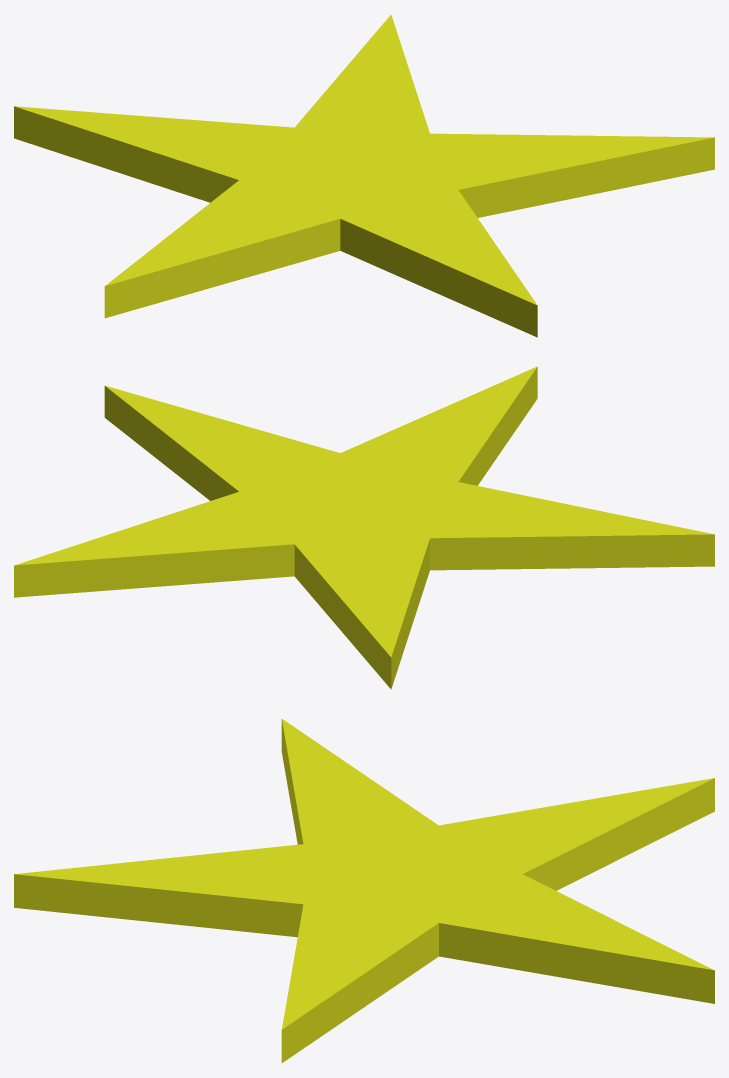
Rendered from star.glb.
3 views of the same model, one above another, from view 1: azimuth 30°, elevation 25°; view 2: azimuth 150°, elevation 25°; view 3: azimuth 270°, elevation 25° (orthographic). The views are drawn at different scales.
Visible parts, largest first — view 1: Circle; view 2: Circle; view 3: Circle.
Boxes of the visible parts, left/top/right/bottom form: Circle: left=14, top=14, right=714, bottom=337; Circle: left=14, top=366, right=714, bottom=689; Circle: left=14, top=719, right=714, bottom=1062.
Bounding box in the file's own units: 1.9 × 0.0956 × 1.81.
